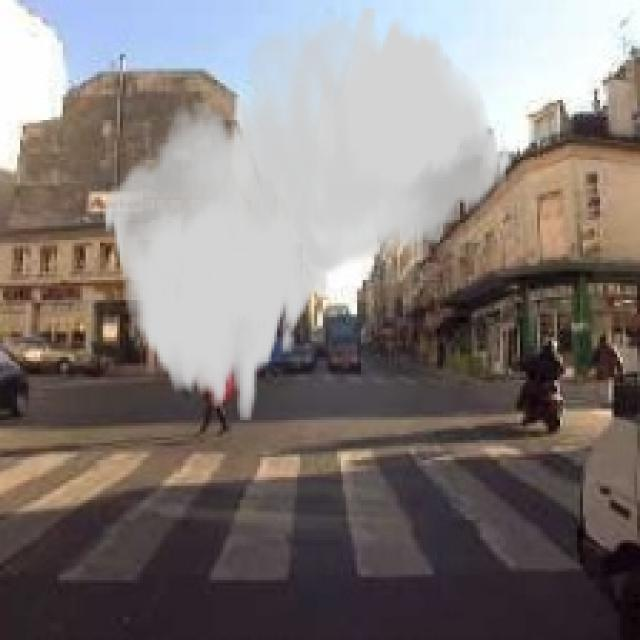smoke: (103, 6, 514, 420)
